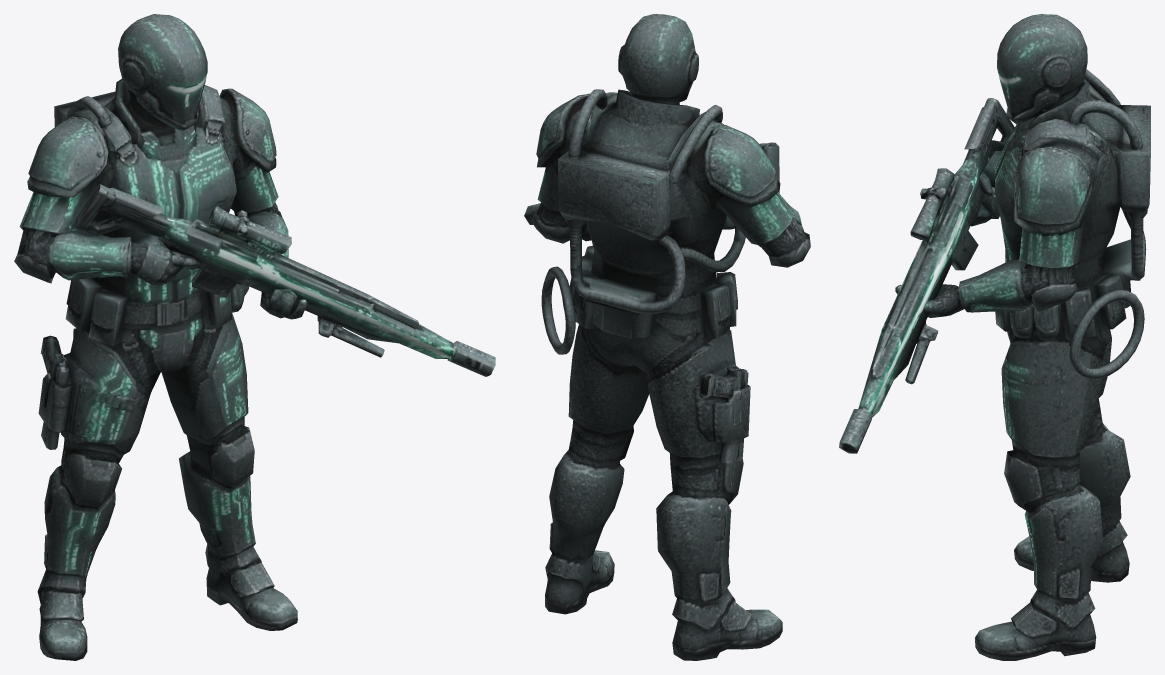
Rendered from fusiller_tripo.glb.
The picture shows the model from 3 angles, left to right: view 1: azimuth 30°, elevation 25°; view 2: azimuth 150°, elevation 25°; view 3: azimuth 270°, elevation 25°; orthographic projection. The views are drawn at different scales.
Parts seen in each view (by area): view 1: tripo_node_74f32ec7-6abd-4a14-ac00-c88d01d17a26; view 2: tripo_node_74f32ec7-6abd-4a14-ac00-c88d01d17a26; view 3: tripo_node_74f32ec7-6abd-4a14-ac00-c88d01d17a26.
Boxes of the visible parts, x1,y1,x2,y2 form: tripo_node_74f32ec7-6abd-4a14-ac00-c88d01d17a26: (14, 14, 495, 660); tripo_node_74f32ec7-6abd-4a14-ac00-c88d01d17a26: (524, 14, 810, 660); tripo_node_74f32ec7-6abd-4a14-ac00-c88d01d17a26: (839, 14, 1150, 660).
Bounding box in the file's own units: 0.6558 × 0.9995 × 0.479.
Materials: 1 (1 with a texture image).
